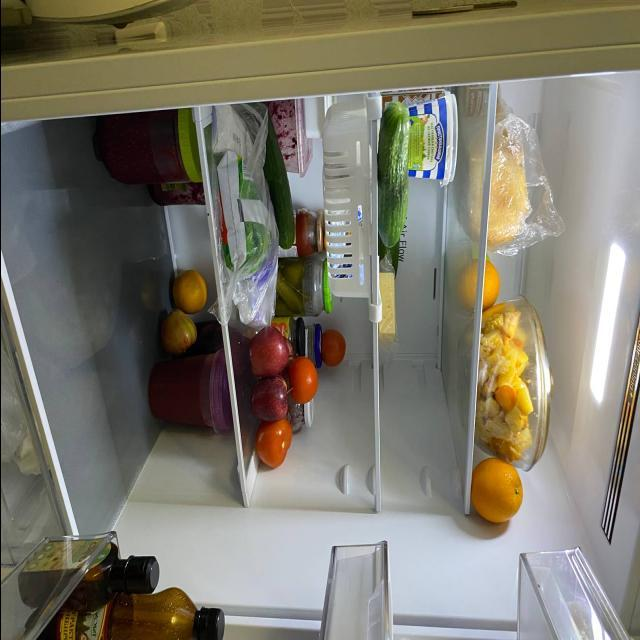Apple: (253, 324, 287, 376), (253, 375, 290, 421), (168, 306, 198, 351)
Cucumber: (380, 110, 407, 250), (266, 119, 294, 253), (386, 228, 400, 280)
Orange: (475, 459, 525, 522), (172, 270, 204, 314), (483, 256, 497, 310)
Tomato: (256, 421, 291, 471), (291, 357, 319, 402), (322, 333, 345, 368)
